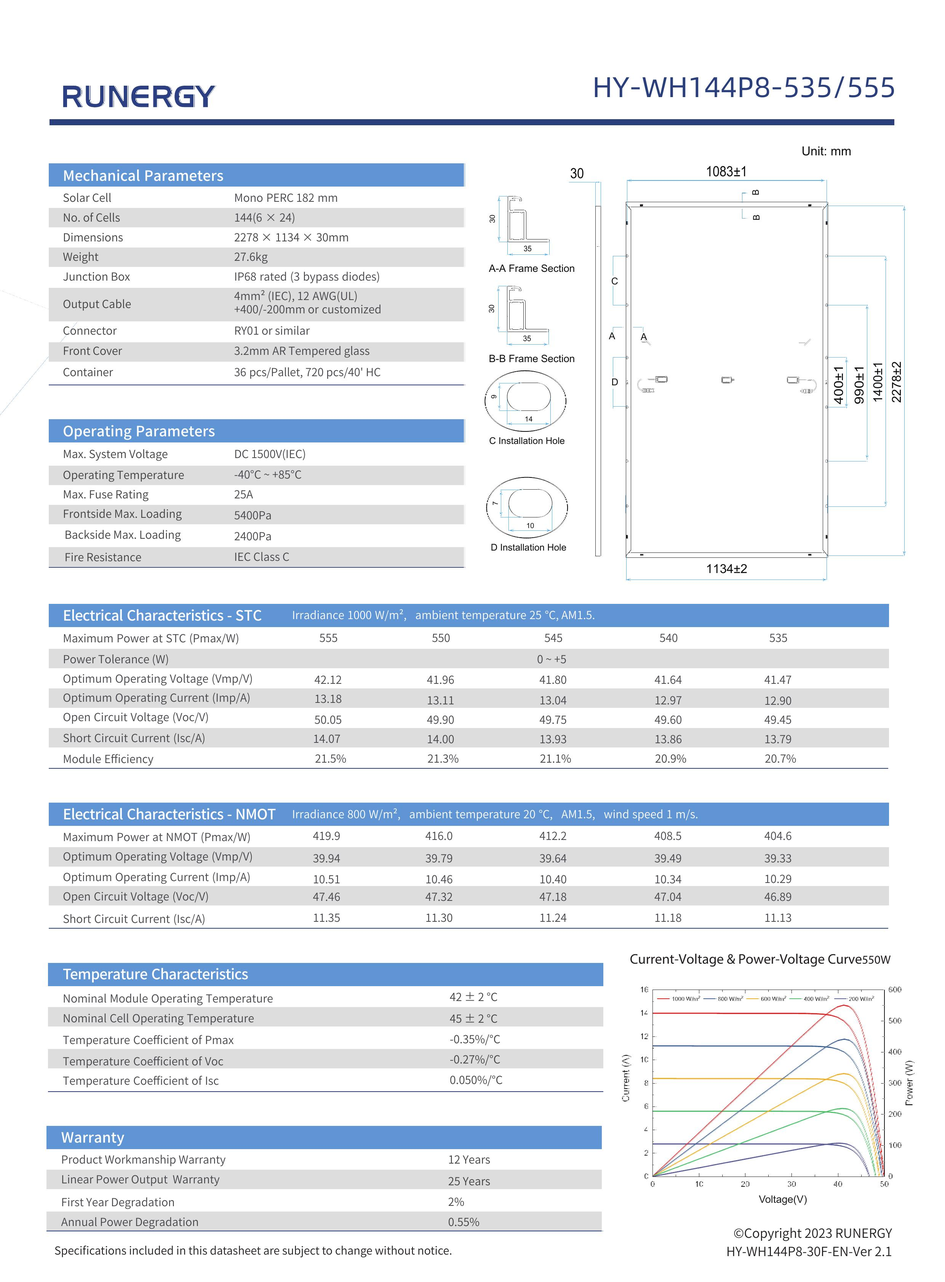table: (43, 598, 905, 776), (38, 794, 902, 936), (42, 155, 470, 392), (38, 956, 610, 1100), (38, 409, 481, 575), (33, 1118, 614, 1238)
